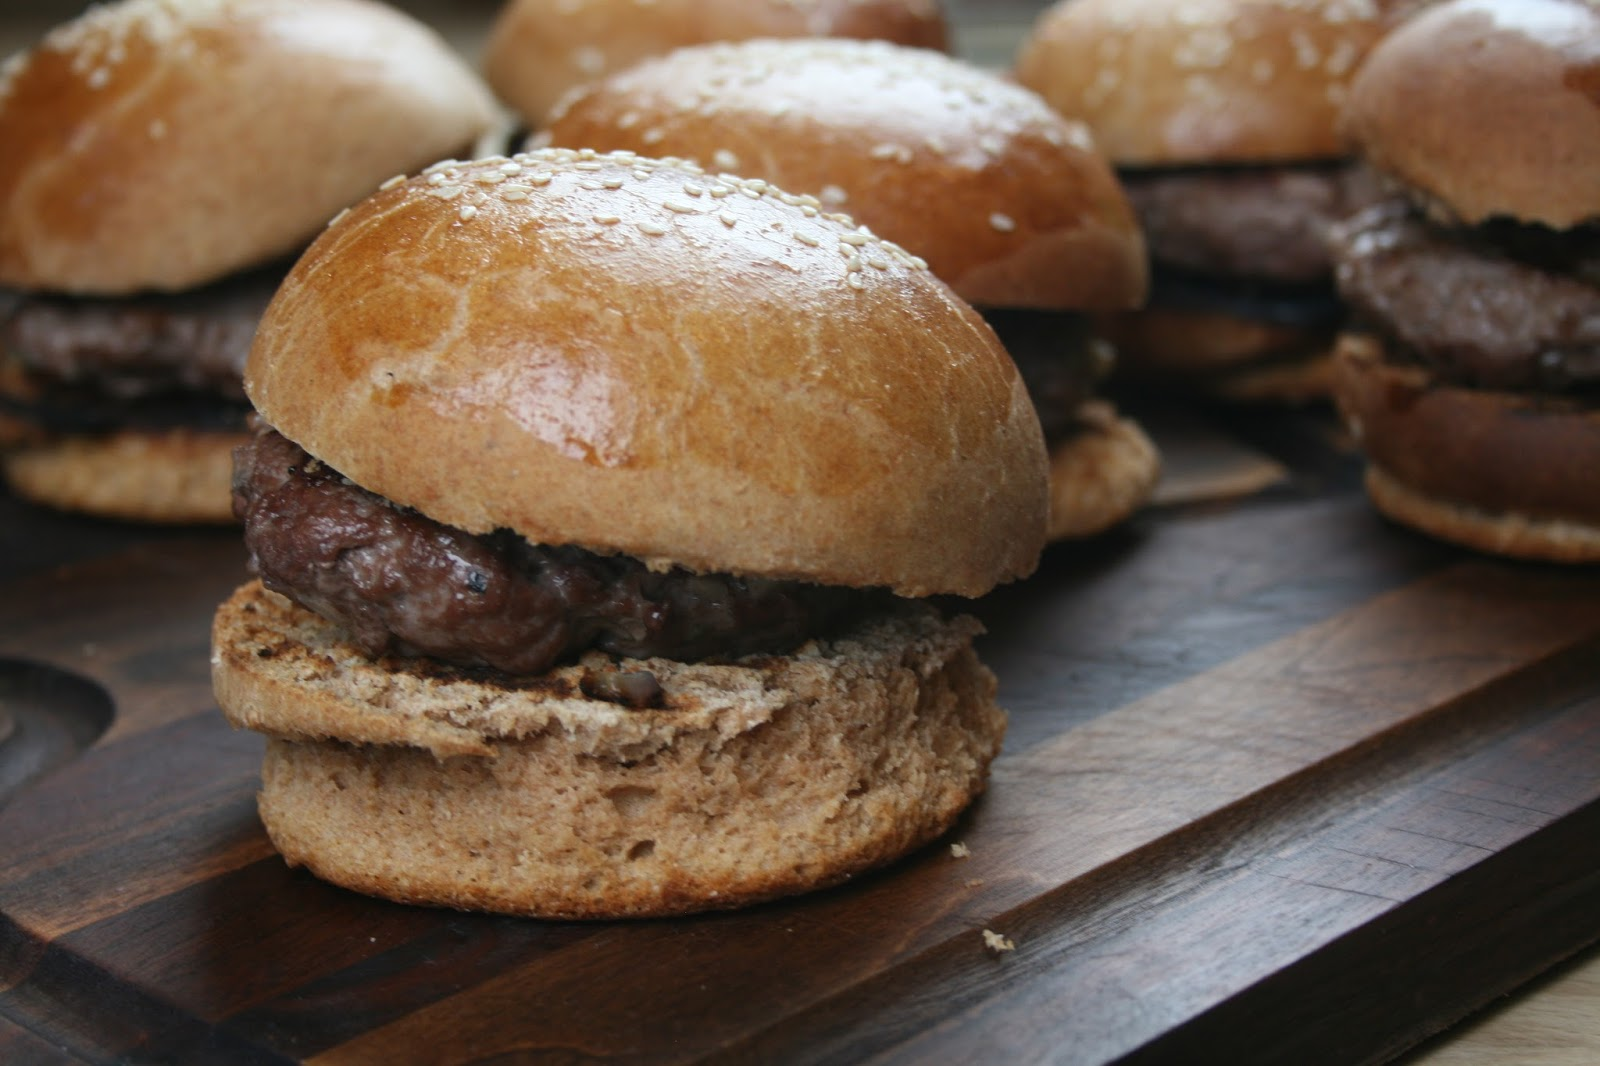hamburger_buns: (200, 150, 1093, 991), (535, 1, 1230, 529), (1314, 6, 1600, 582)
